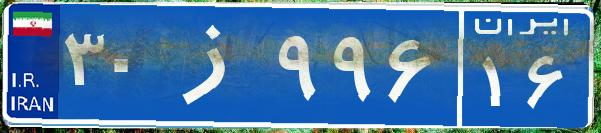0: (110, 28, 158, 105)
1: (475, 38, 525, 113)
3: (57, 26, 110, 107)
6: (385, 28, 445, 110), (525, 38, 570, 115)
9: (273, 28, 330, 110), (330, 28, 385, 110)
ز: (158, 15, 273, 115)
